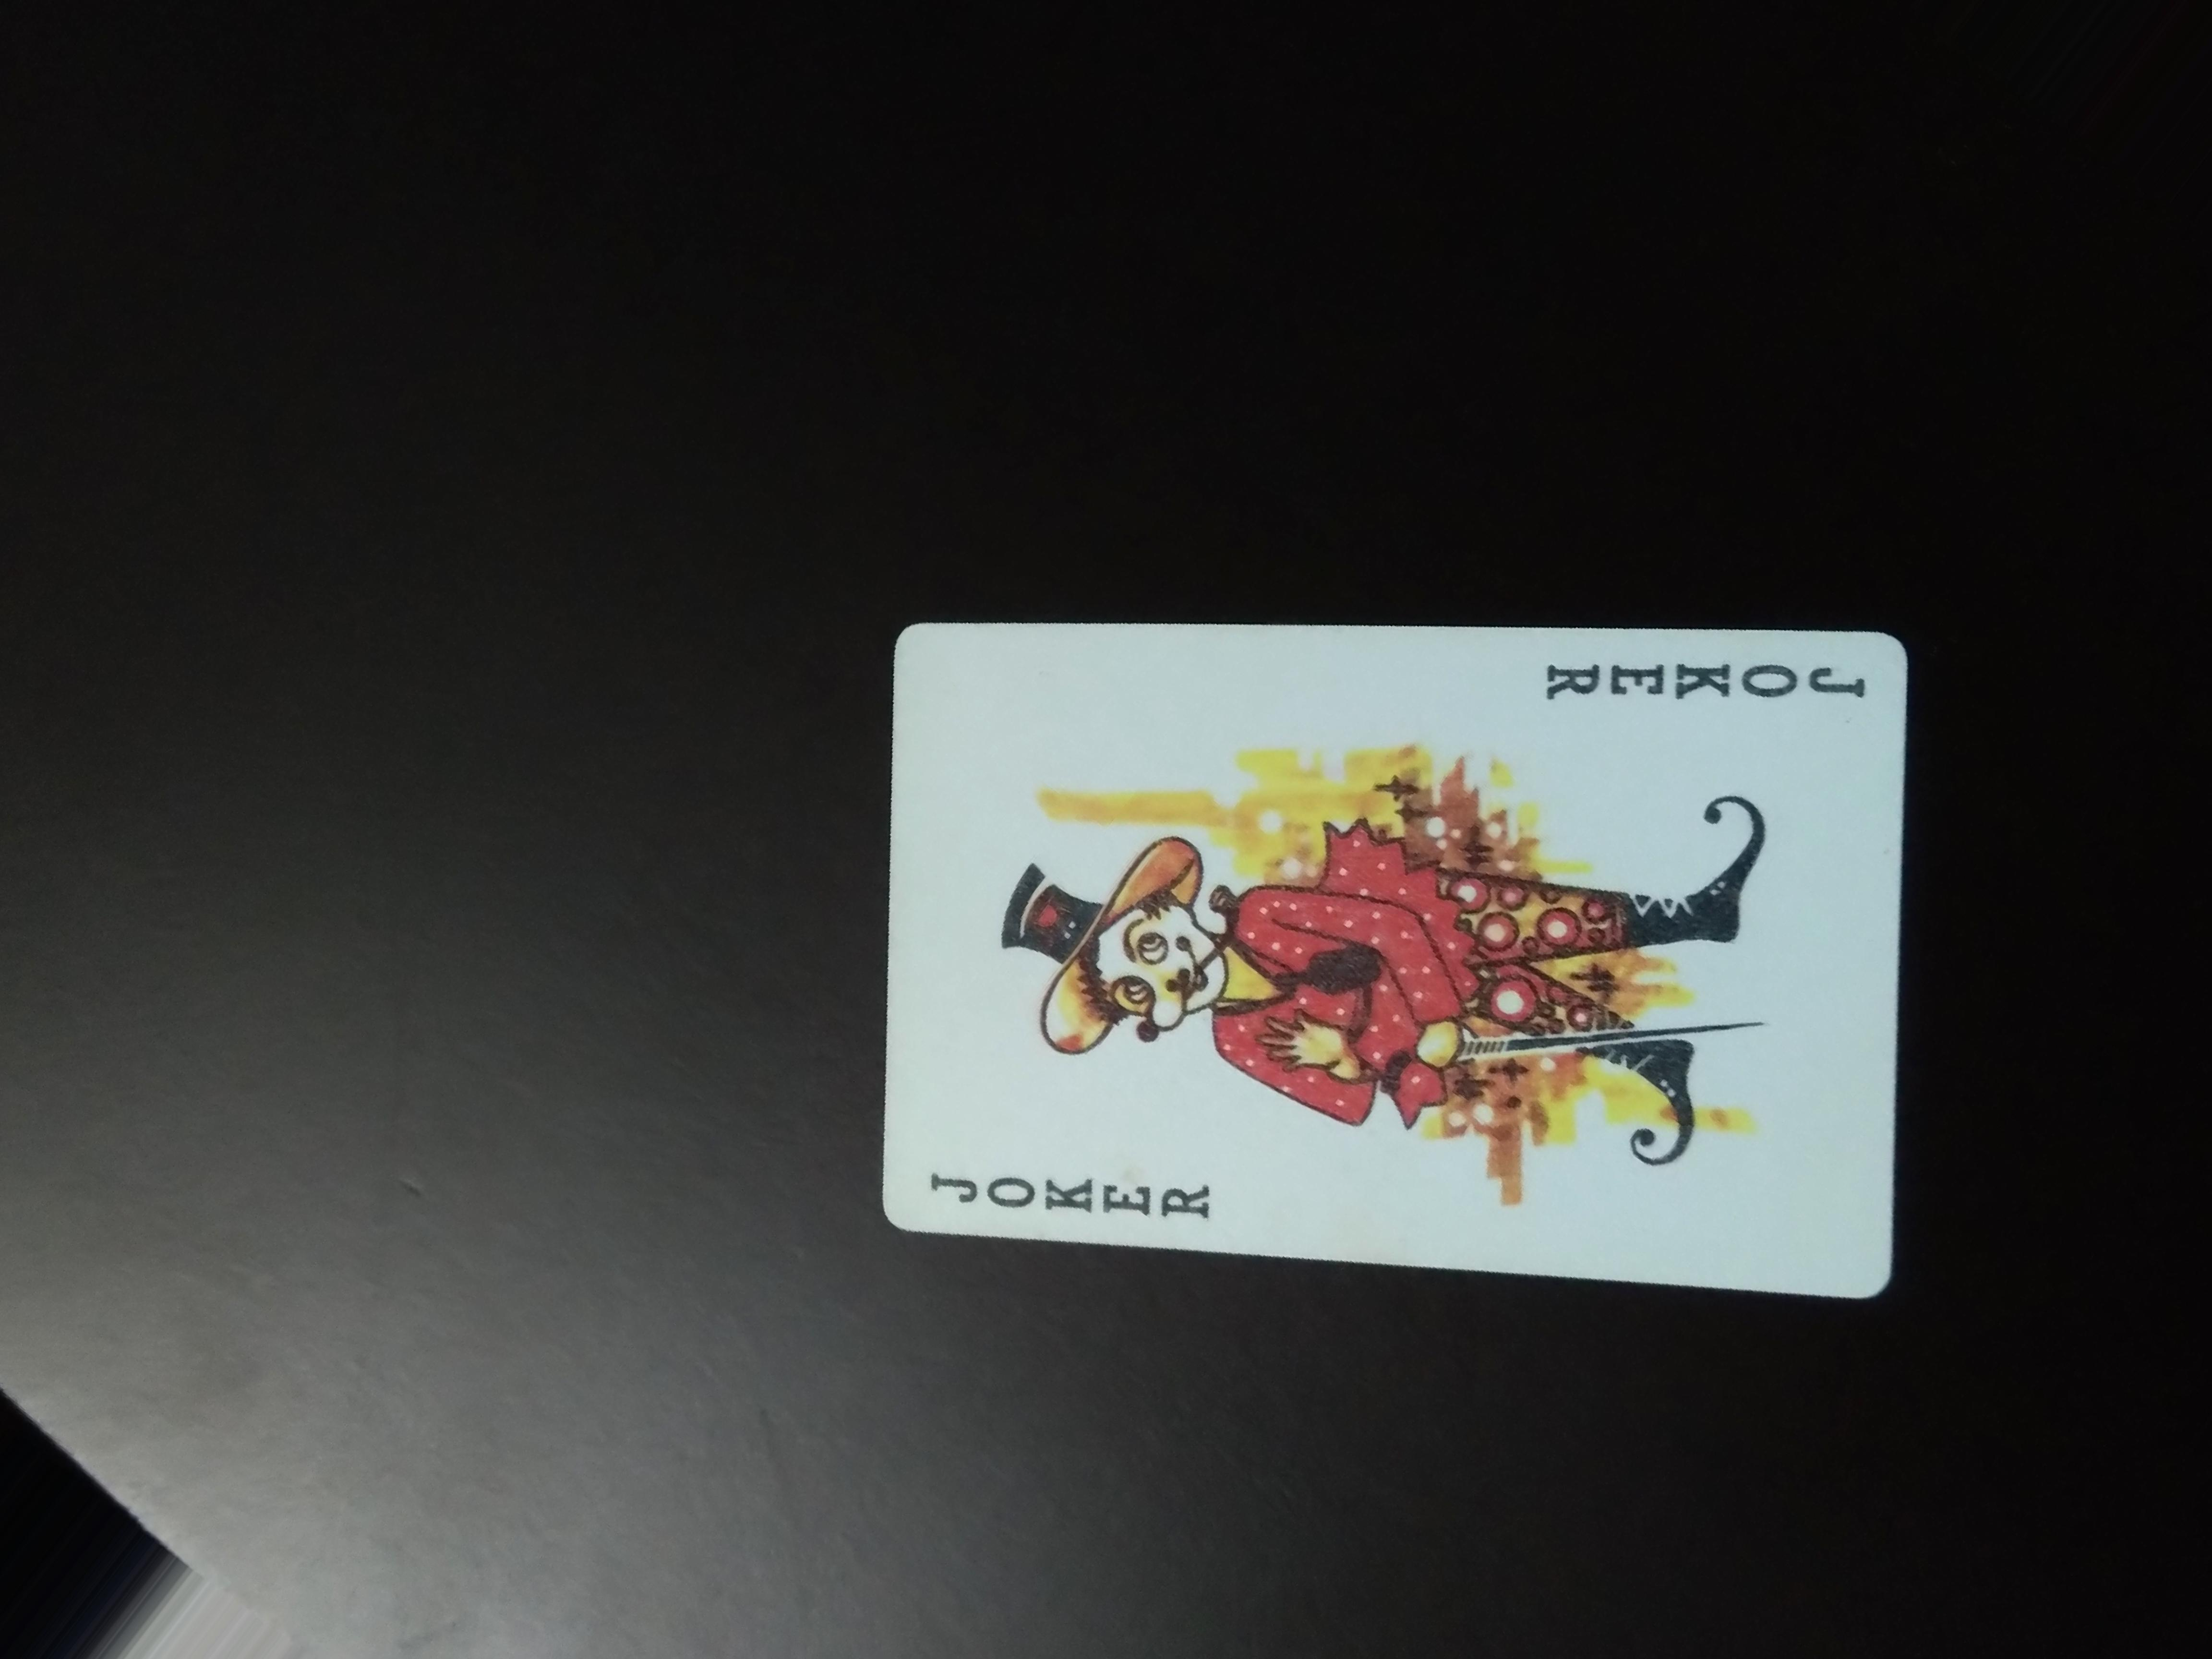JOKER: (1472, 640, 1886, 732)
